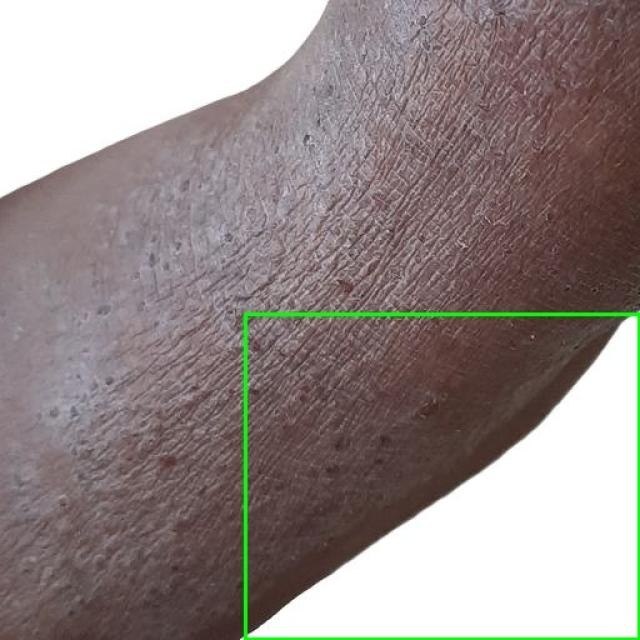Contact Dermatitis: (245, 314, 639, 639)
